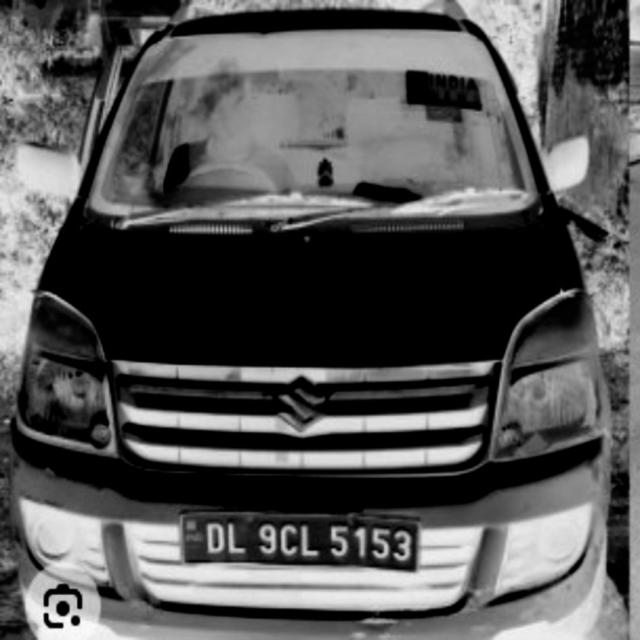1: (353, 525, 368, 561)
3: (392, 528, 412, 564)
5: (330, 523, 350, 560), (371, 526, 391, 562)
9: (256, 520, 278, 556)
C: (279, 523, 299, 559)
D: (206, 516, 226, 558)
IND: (183, 516, 206, 552)
Indian_registered: (181, 512, 419, 570)
L: (227, 520, 249, 557), (300, 522, 321, 558)
